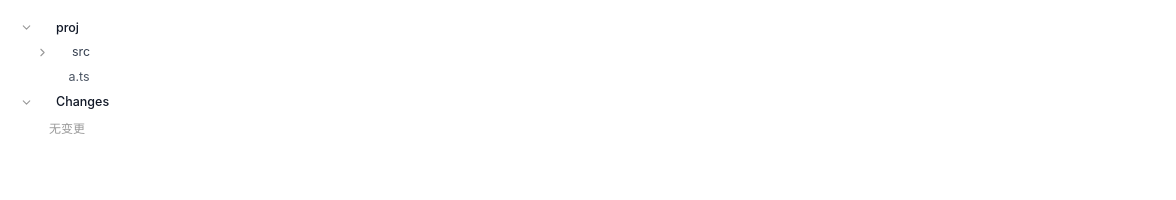
it: FileTreeSidebar 树结构刷新 › 子目录新增文件：事件防抖后重读该目录，新文件出现
Expected: the text "src" is shown, left=72, top=43, right=90, bottom=62
Click the list item "src": (42, 53) left=12, top=40, right=1164, bottom=65
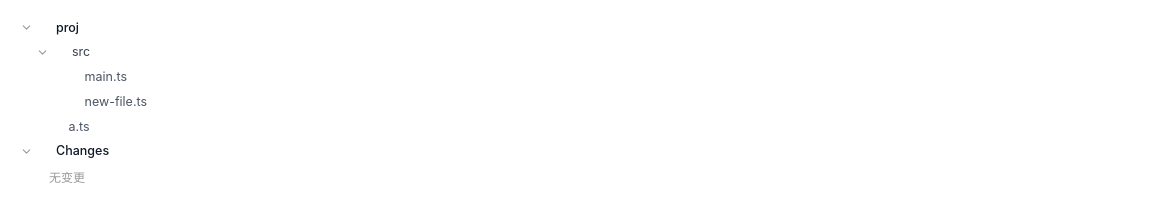
Expected: the text "main.ts" is shown, left=84, top=68, right=127, bottom=87
Expected: the text "new-file.ts" is shown, left=84, top=93, right=147, bottom=112
